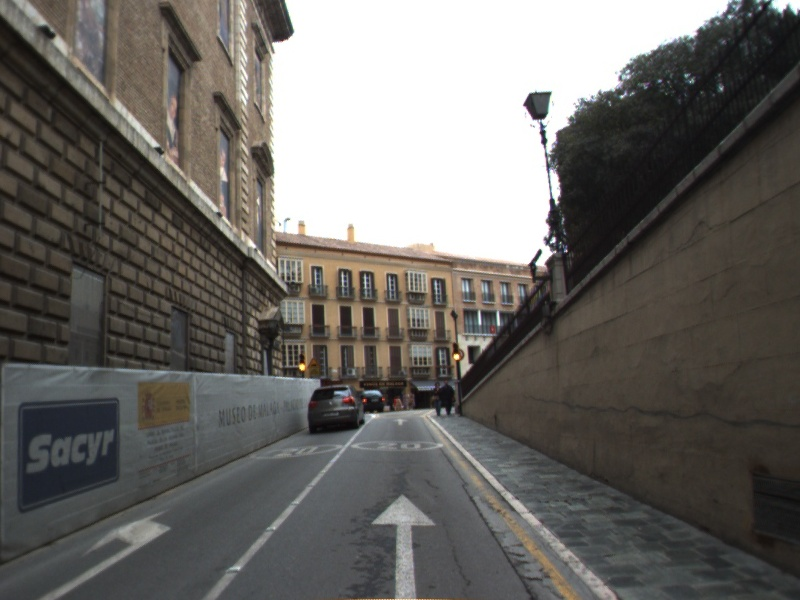LEFT: (35, 503, 179, 600)
STRAIGHT: (367, 489, 440, 600), (392, 416, 410, 427)
